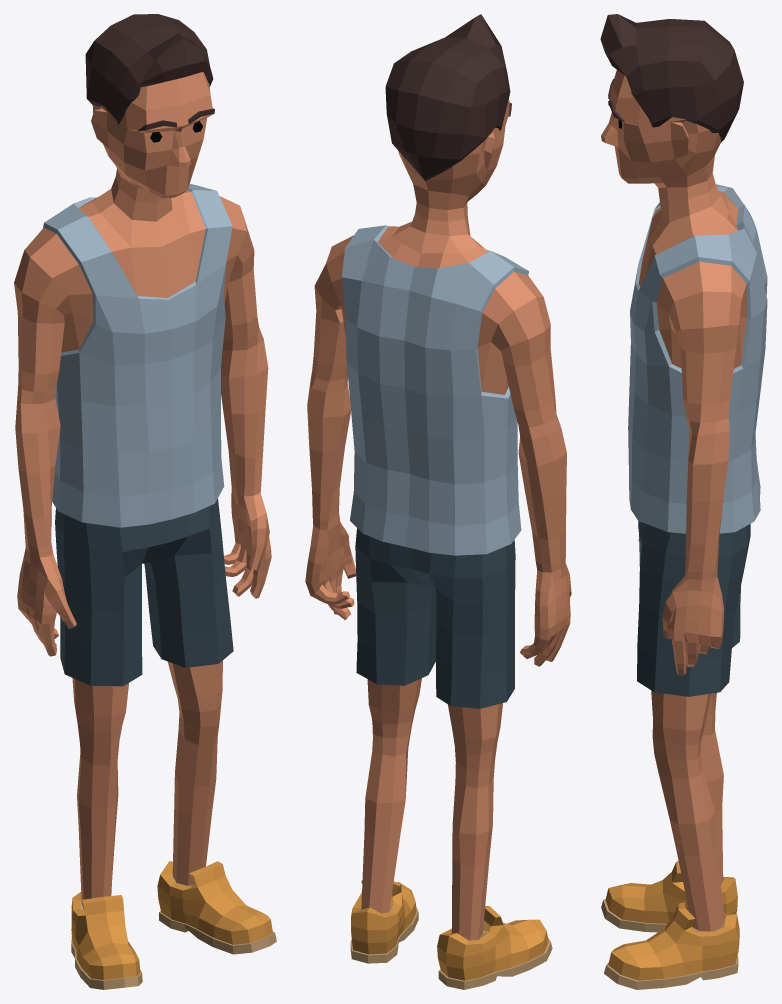
Rendered from Male_04.obj.
3 views of the same model, side by side, from view 1: azimuth 30°, elevation 25°; view 2: azimuth 150°, elevation 25°; view 3: azimuth 270°, elevation 25° (orthographic). The views are drawn at different scales.
Parts seen in each view (by area): view 1: Body_04_Cube.005; view 2: Body_04_Cube.005; view 3: Body_04_Cube.005.
Boxes of the visible parts, x1,y1,x2,y2 form: Body_04_Cube.005: (14, 14, 276, 989); Body_04_Cube.005: (305, 14, 571, 989); Body_04_Cube.005: (600, 14, 767, 989).
Bounding box in the file's own units: 0.5826 × 2.07 × 0.3371.
